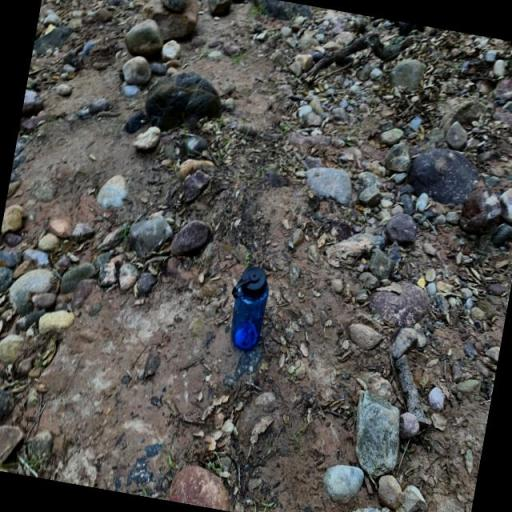bottle: (222, 263, 272, 355)
